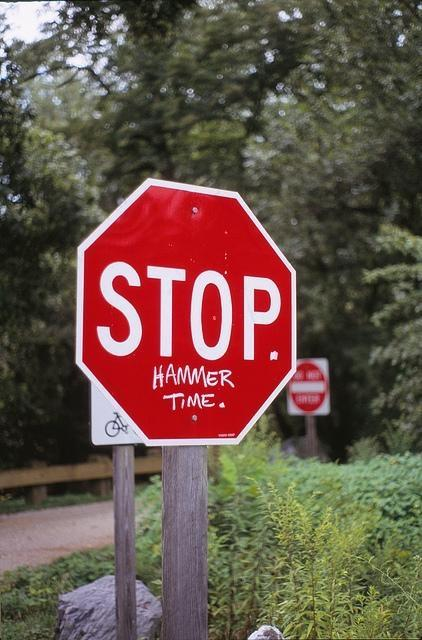bicycle: (104, 412, 130, 438)
